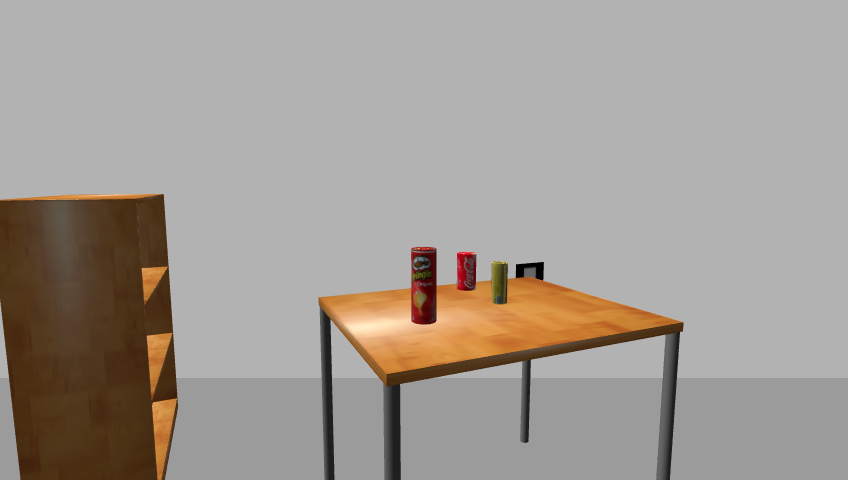aruco marker: (512, 261, 547, 284)
biscuits pack: (492, 261, 507, 305)
bookshelf: (0, 193, 182, 479)
coke can: (456, 251, 476, 292)
dinner table: (312, 278, 693, 479)
pringles can: (409, 246, 438, 326)
